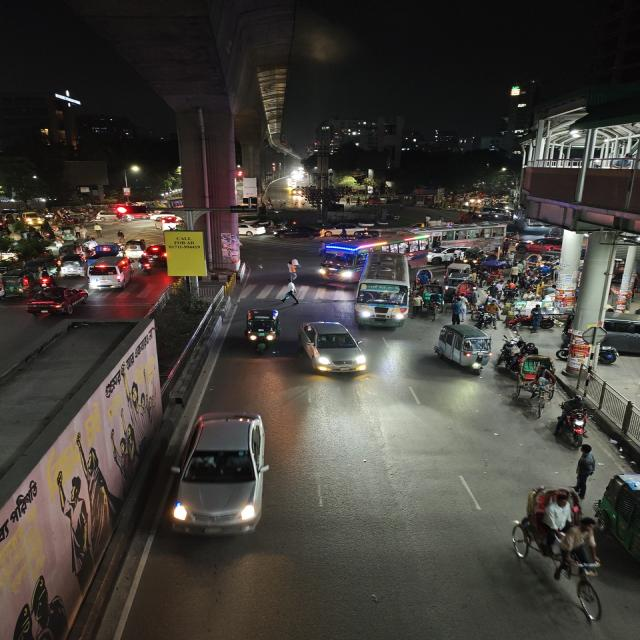bus: (353, 251, 413, 331), (316, 236, 376, 282), (414, 222, 509, 248)
car: (172, 409, 276, 545), (296, 318, 368, 378), (27, 285, 88, 317), (85, 256, 134, 291), (274, 225, 320, 241), (237, 218, 274, 236), (427, 247, 452, 265), (481, 206, 507, 220), (126, 208, 150, 220)
cng: (431, 322, 495, 374), (240, 308, 283, 354), (1, 267, 36, 297), (58, 254, 86, 278)
motorcycle: (556, 394, 596, 444), (282, 256, 304, 281), (138, 254, 152, 274)
pedestrian: (482, 298, 502, 330), (280, 280, 302, 306), (449, 296, 467, 325), (424, 298, 440, 323)
pickup_van: (90, 245, 120, 259)
rickshaw: (502, 477, 608, 628), (555, 326, 620, 372), (511, 350, 562, 408), (442, 260, 475, 283), (123, 238, 146, 258), (414, 267, 435, 287)
